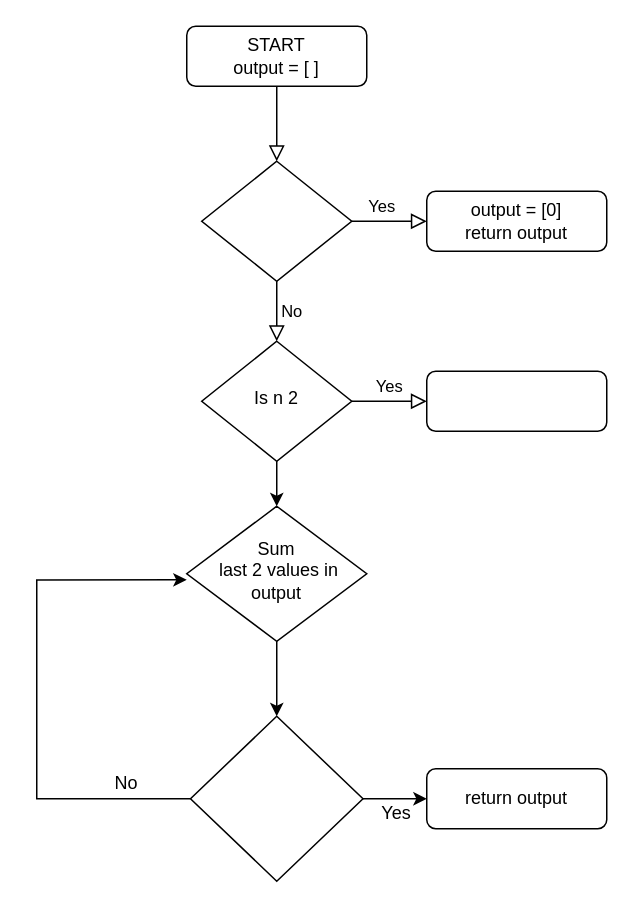
This 633x908 diagram has some shape labels left out. The box of each missing label's shape, as (x1, y1, x2, y2) in pixels:
Does n equal number of items in output: (189, 715, 363, 881)
Is n 1: (200, 160, 352, 281)
output = [0,1] return output: (425, 370, 607, 431)
